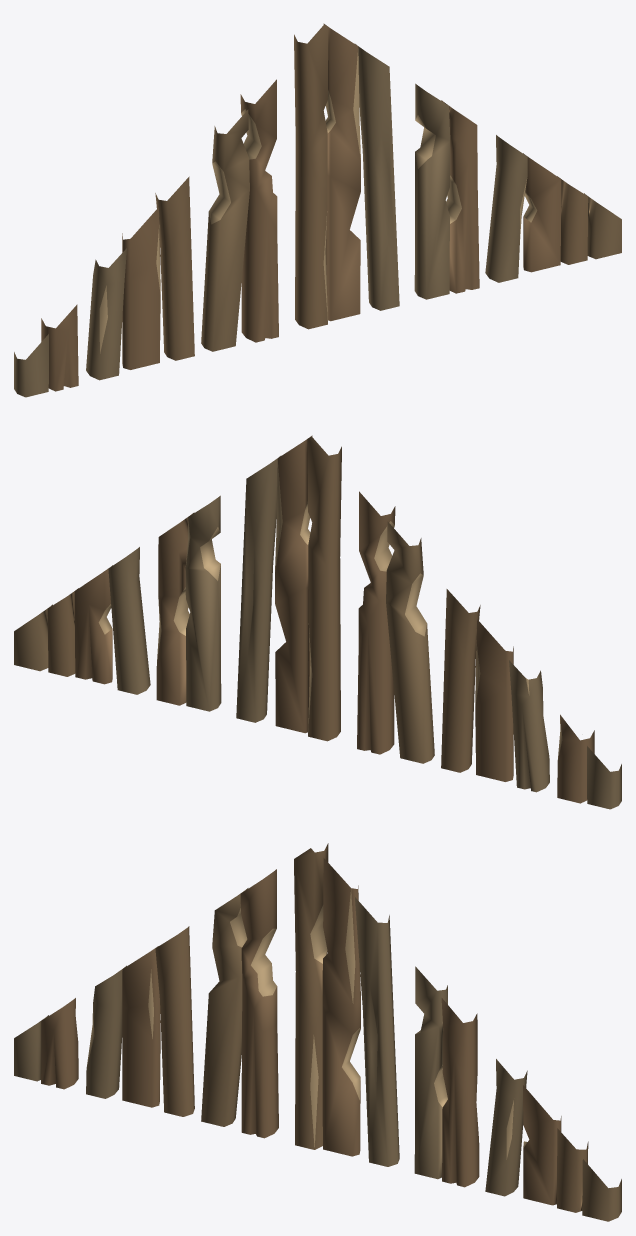
File: rpgpp_av_roof_end_01_9x4_wall_02a.gltf
The picture shows the model from 3 angles, top to bottom: view 1: azimuth 30°, elevation 25°; view 2: azimuth 150°, elevation 25°; view 3: azimuth 330°, elevation 25°; orthographic projection.
Parts seen in each view (by area): view 1: rpgpp_av_roof_end_01_9x4_wall_02a; view 2: rpgpp_av_roof_end_01_9x4_wall_02a; view 3: rpgpp_av_roof_end_01_9x4_wall_02a.
Boxes of the visible parts, box(x1,y1,x2,y2) form: rpgpp_av_roof_end_01_9x4_wall_02a: box(14, 23, 621, 397); rpgpp_av_roof_end_01_9x4_wall_02a: box(14, 435, 621, 809); rpgpp_av_roof_end_01_9x4_wall_02a: box(14, 843, 621, 1221).
Size of the model in its own units: 0.09 by 0.0431 by 0.00379.
Materials: 1 (1 with a texture image).
